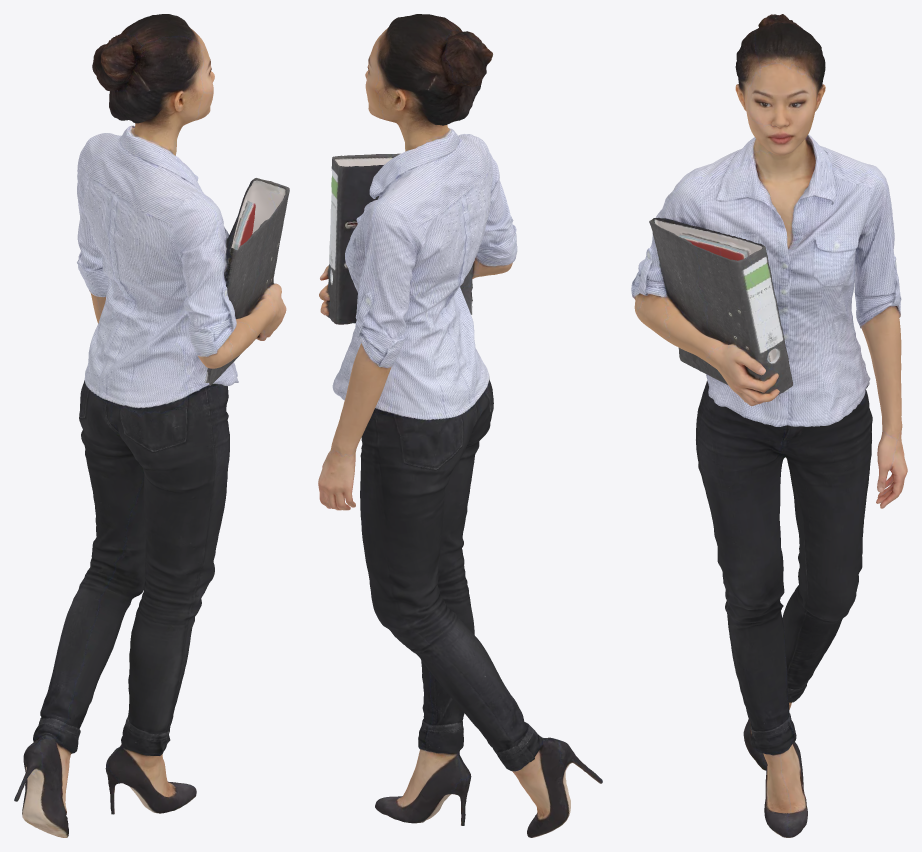
File: person.glb
3 renders of one model, left to right at view 1: azimuth 30°, elevation 25°; view 2: azimuth 150°, elevation 25°; view 3: azimuth 270°, elevation 25°, orthographic.
Visible parts, largest first — view 1: Object_3; view 2: Object_3; view 3: Object_3.
Part boxes in pixels (left/top/right/bottom): Object_3: left=14, top=14, right=289, bottom=837; Object_3: left=318, top=14, right=602, bottom=837; Object_3: left=631, top=14, right=907, bottom=837.
Size of the model in its own units: 61.17 by 170 by 53.64.
Materials: 1 (1 with a texture image).
